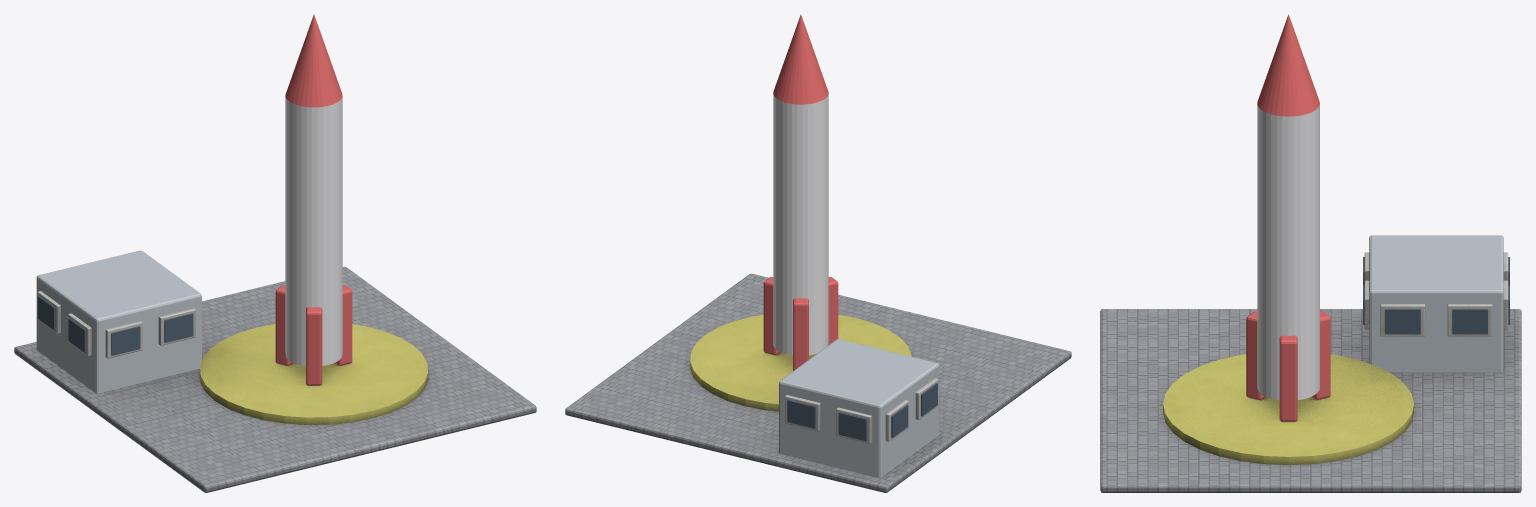
Rendered from raumhafen.glb.
3 renders of one model, left to right at view 1: azimuth 30°, elevation 25°; view 2: azimuth 150°, elevation 25°; view 3: azimuth 270°, elevation 25°, orthographic. The views are drawn at different scales.
Parts seen in each view (by area): view 1: raumhafen, raumhafen_details; view 2: raumhafen, raumhafen_details; view 3: raumhafen, raumhafen_details.
Boxes of the visible parts, box(x1,y1,x2,y2) form: raumhafen: box(14, 266, 536, 492); raumhafen_details: box(36, 14, 352, 393); raumhafen: box(565, 273, 1071, 492); raumhafen_details: box(763, 14, 939, 477); raumhafen: box(1100, 252, 1521, 492); raumhafen_details: box(1246, 14, 1509, 421).
Size of the model in its own units: 0.94 by 1 by 0.94.
Materials: 5 (1 with a texture image).
